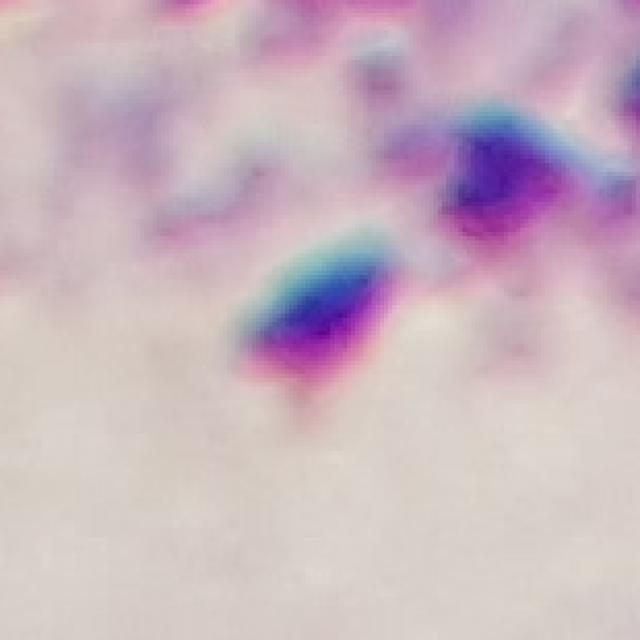non-sperm: (229, 232, 405, 380)
